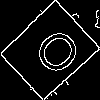O: (24, 25, 85, 85)
